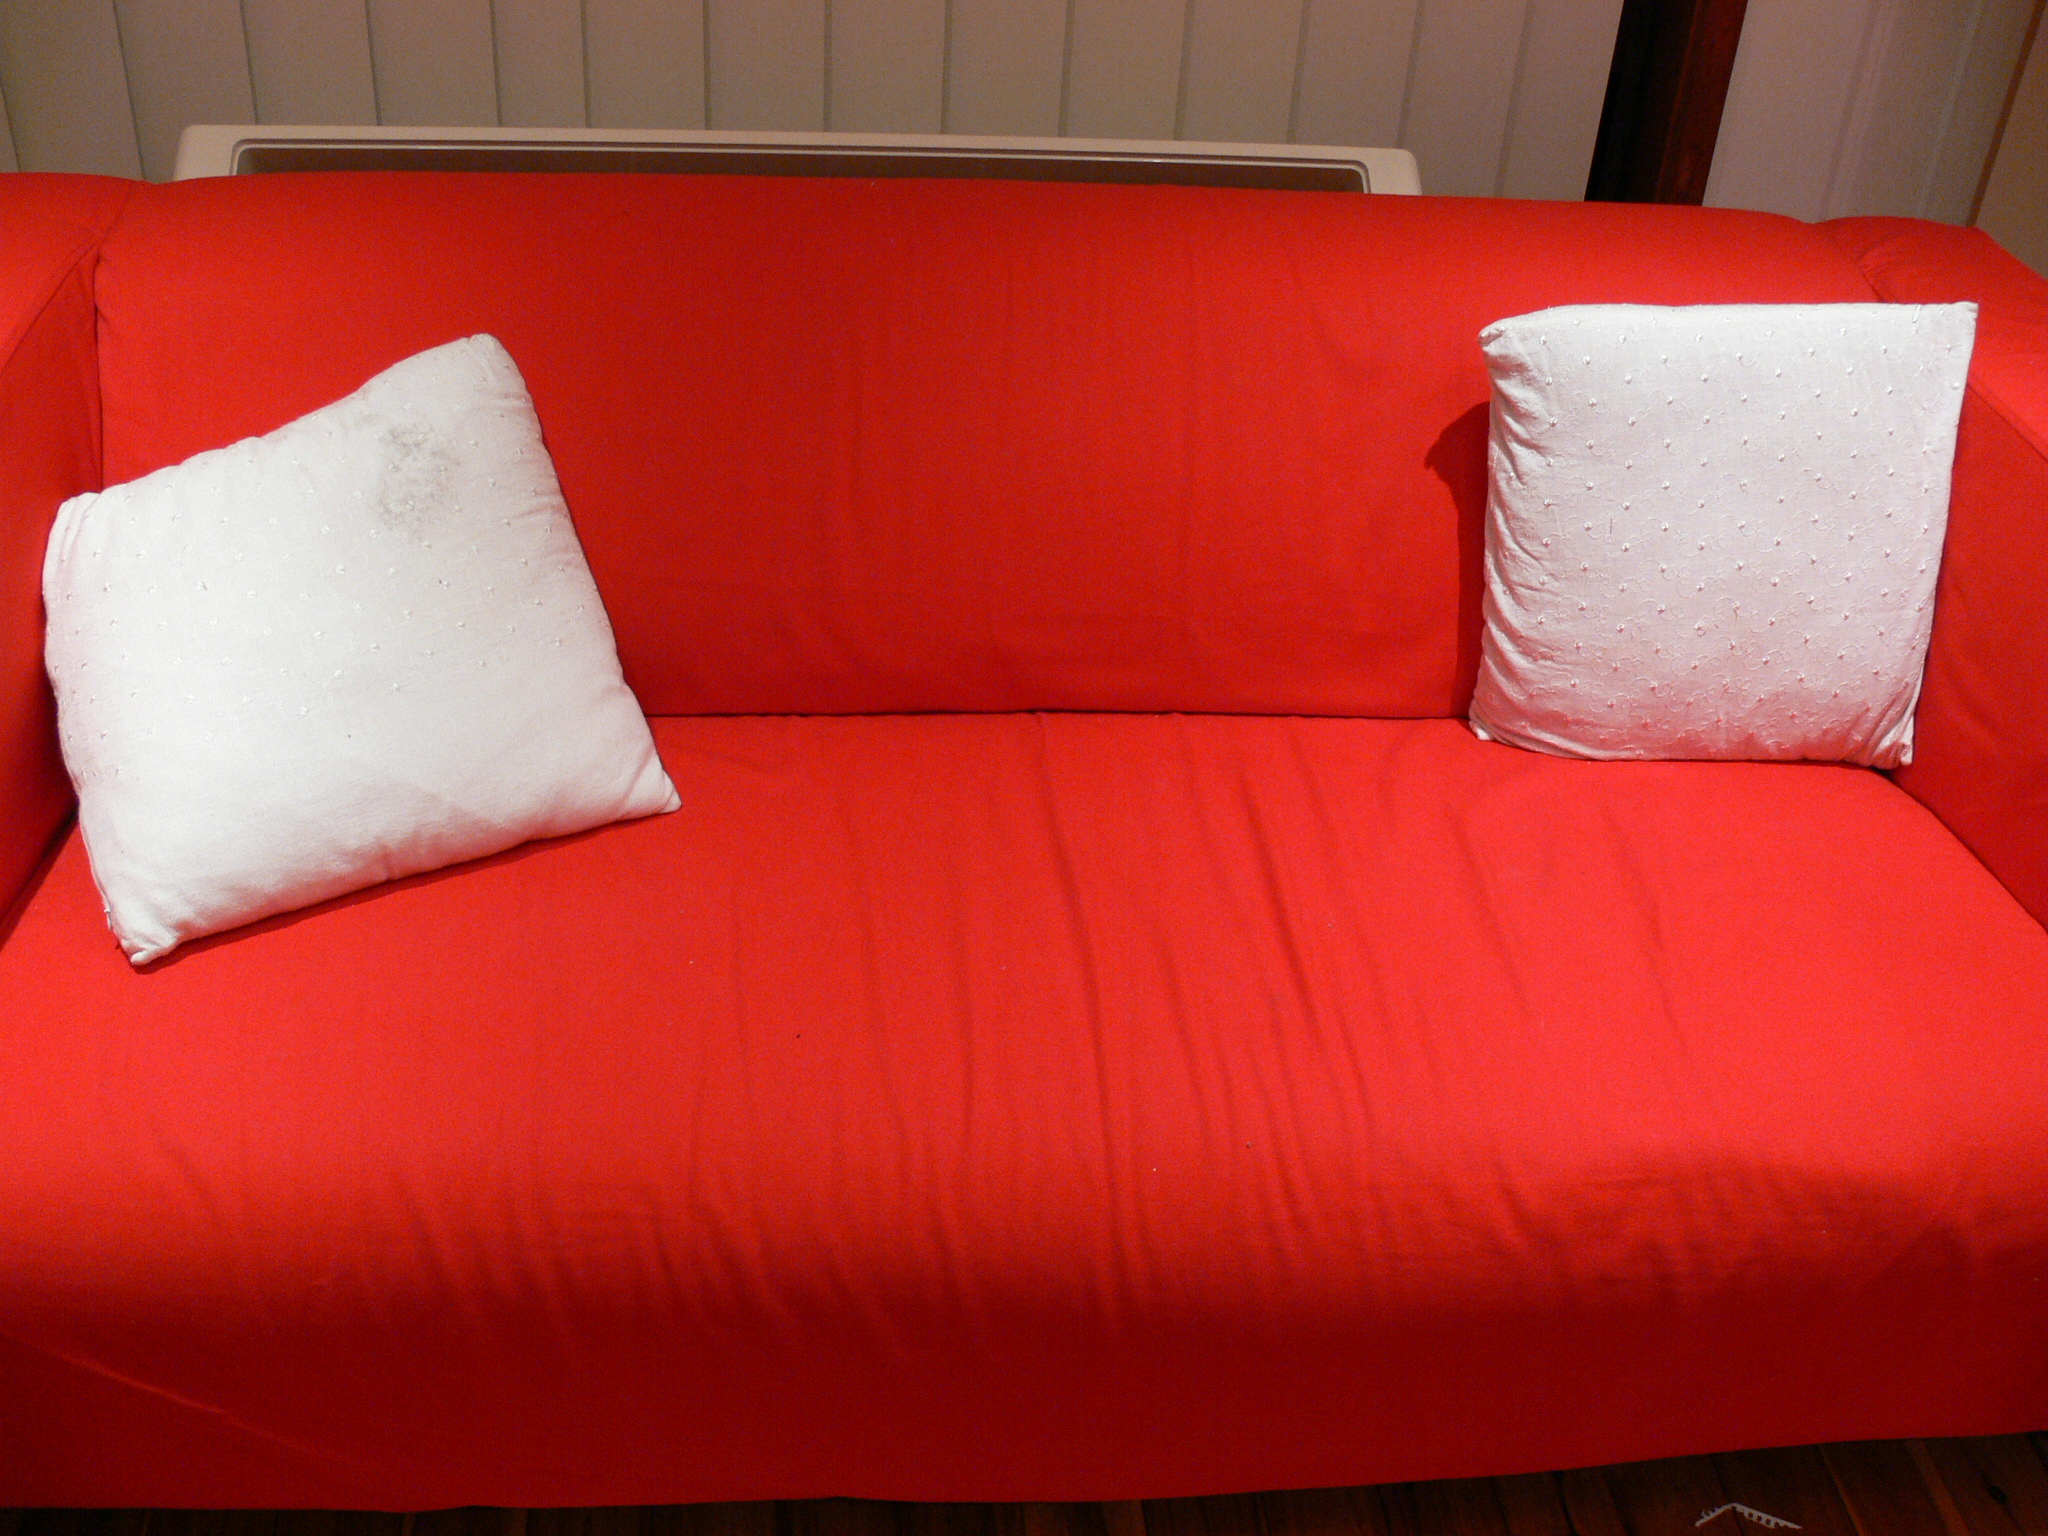sofa: (2, 157, 2038, 1521)
